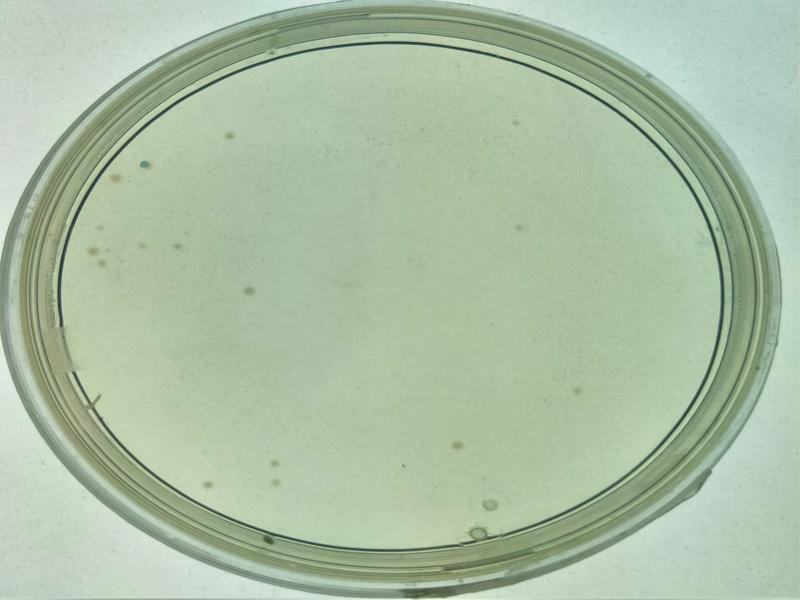colony: (447, 428, 478, 459), (562, 374, 594, 404), (215, 120, 246, 150), (506, 215, 534, 247), (232, 274, 260, 305), (127, 237, 157, 261), (260, 448, 286, 473), (194, 472, 222, 494), (263, 475, 286, 501), (166, 236, 190, 259)
